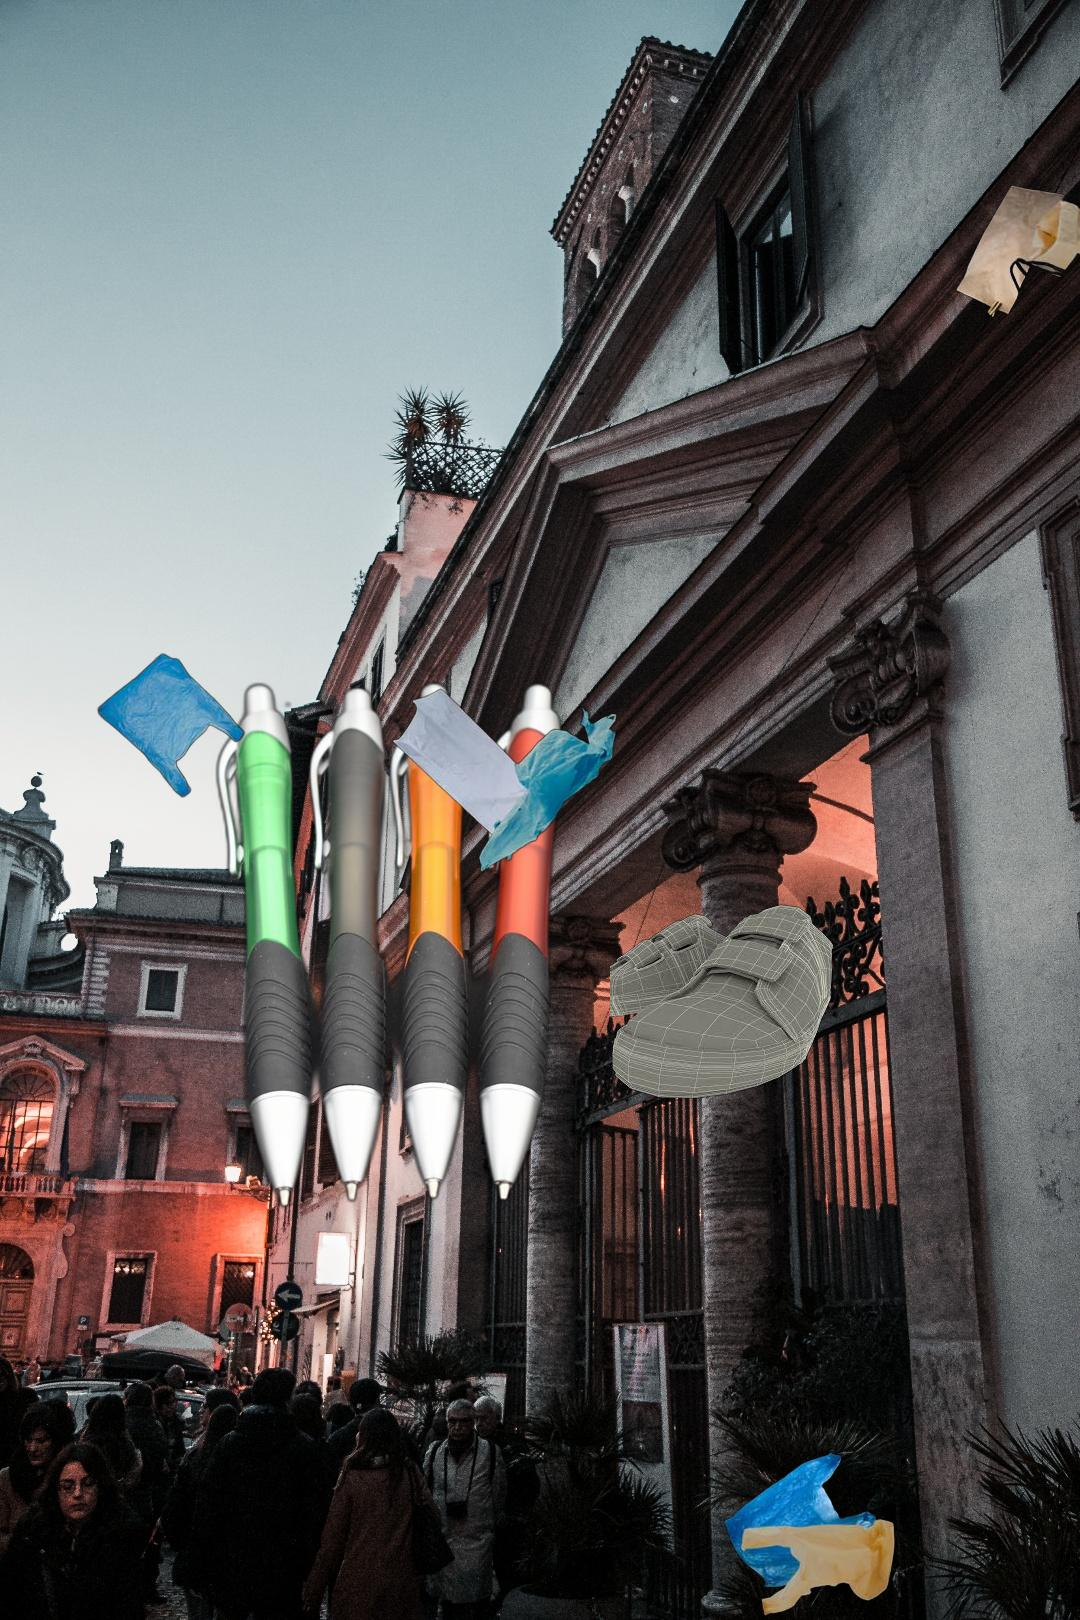paper-bag: (955, 182, 1080, 319)
penholder: (209, 676, 570, 1214)
plastic-bag: (389, 686, 620, 874), (721, 1449, 896, 1619), (96, 651, 246, 799)
shoes: (610, 902, 835, 1102)
